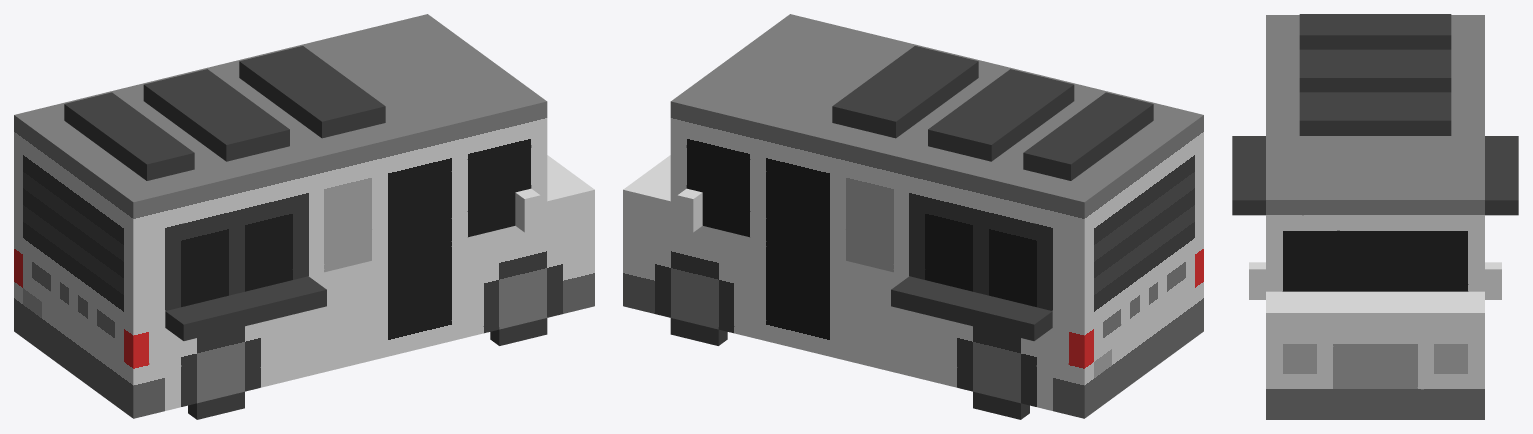
The model's file is veh_lunch2.dae.
3 renders of one model, left to right at view 1: azimuth 30°, elevation 25°; view 2: azimuth 150°, elevation 25°; view 3: azimuth 270°, elevation 25°, orthographic. The views are drawn at different scales.
Parts seen in each view (by area): view 1: veh_lunch2; view 2: veh_lunch2; view 3: veh_lunch2.
Boxes of the visible parts, <box> form: veh_lunch2: <box>14,14,594,419</box>; veh_lunch2: <box>623,14,1203,419</box>; veh_lunch2: <box>1232,14,1518,419</box>.
Size of the model in its own units: 2.9 by 1.7 by 1.5.
